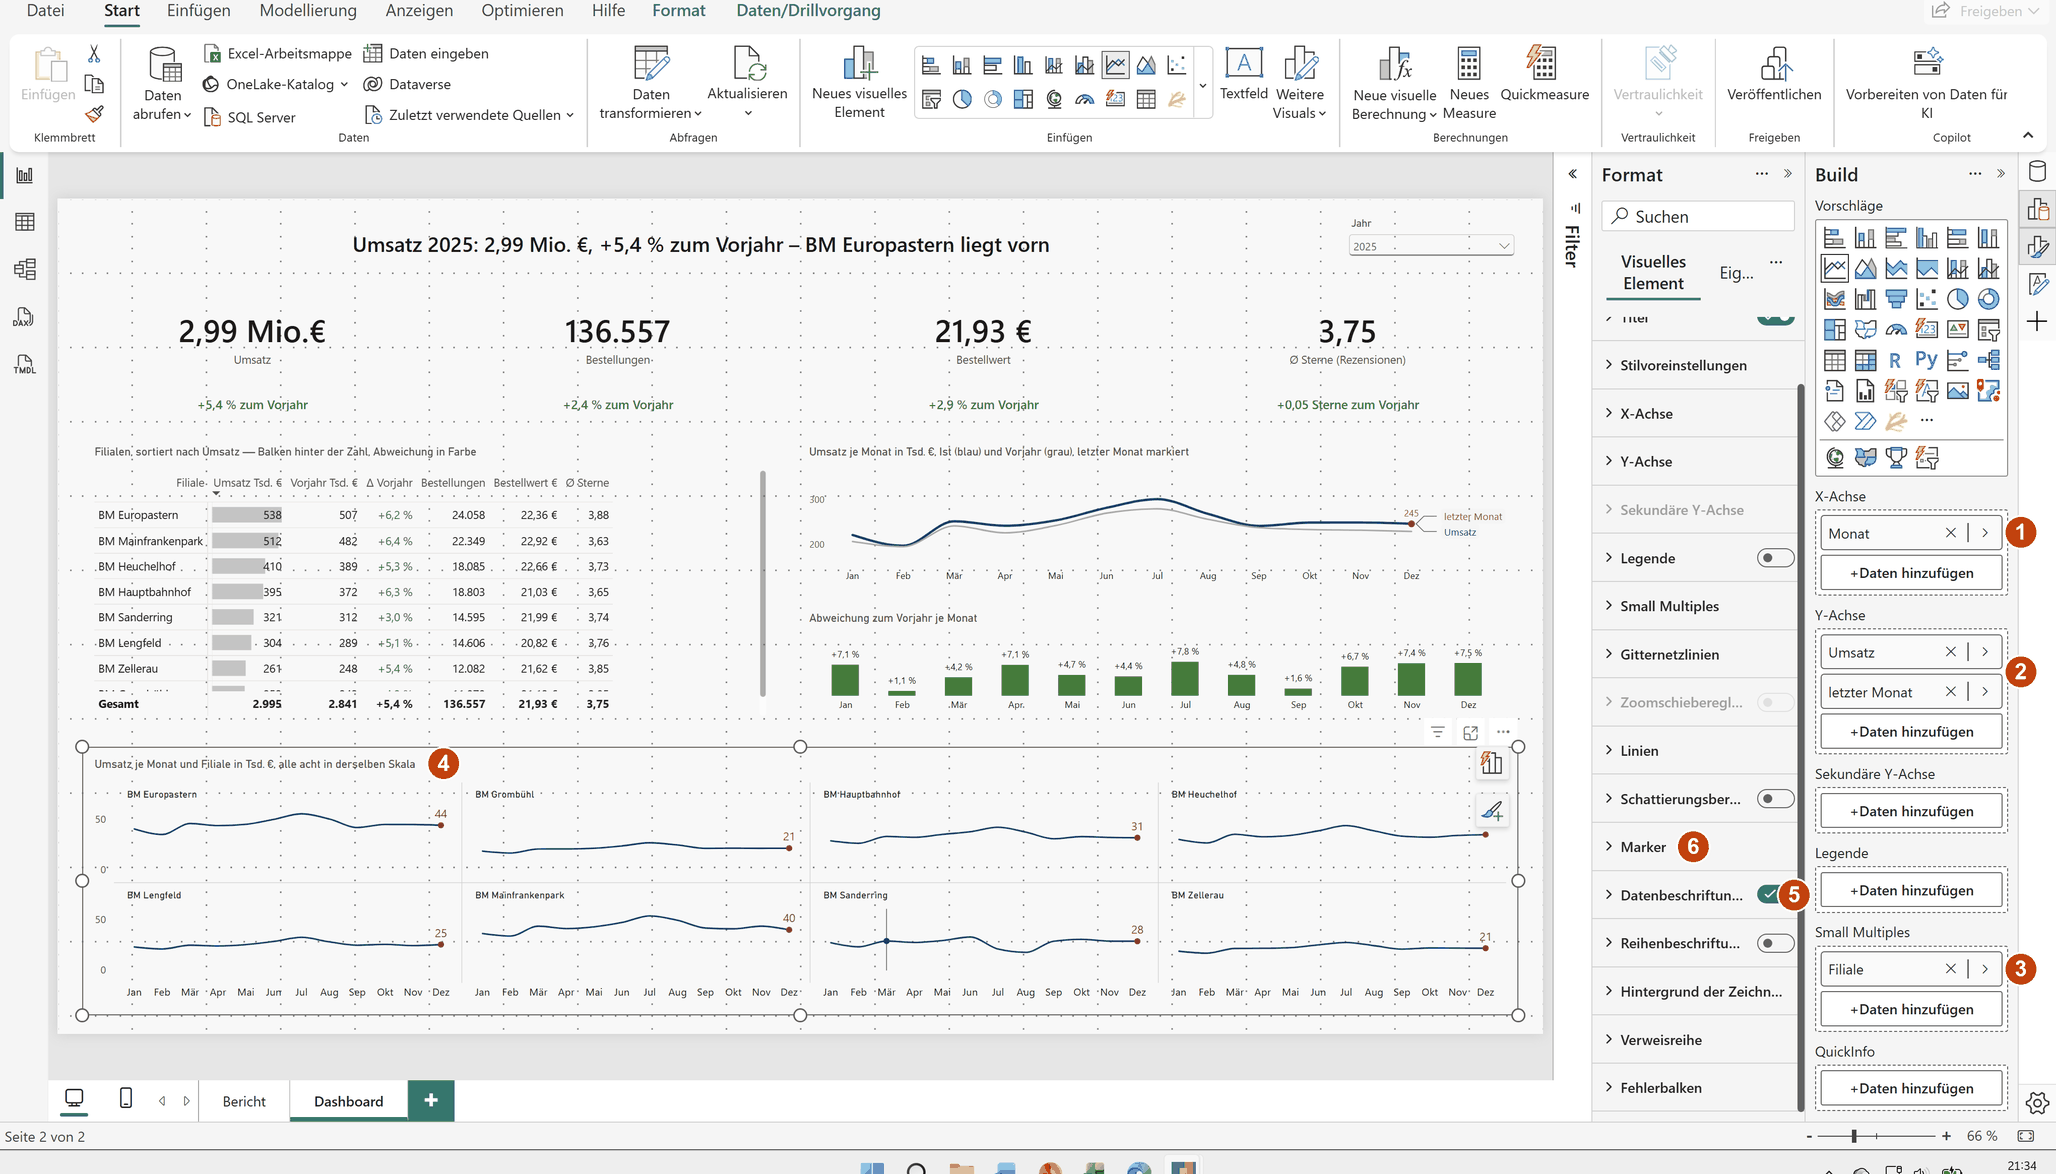

This screenshot's page, from the dashboard's own definition file:
{"tool":"tableau","page":{"name":"Dashboard 1","canvas":[1600,1000],"ordinal":0},"visuals":[{"type":"worksheet","title":"Titel","mark":"Automatic","box":[8,8,792,80]},{"type":"worksheet","title":"Umsatz je Monat","mark":"Automatic","rows":["Calculation_5100132365418516"],"cols":["date"],"box":[800,8,792,246]},{"type":"parameter","param":"[Parameters].[Parameter 5100132363096068]","box":[1432,8,160,52]},{"type":"worksheet","title":"Karte Umsatz","mark":"Automatic","box":[8,88,198,166]},{"type":"worksheet","title":"Karte Bestellungen","mark":"Automatic","box":[206,88,198,166]},{"type":"worksheet","title":"Karte Bestellwert","mark":"Automatic","box":[404,88,198,166]},{"type":"worksheet","title":"Karte Sterne","mark":"Automatic","box":[602,88,198,166]},{"type":"worksheet","title":"Filialen Umsatz","mark":"Automatic","rows":["branch_name"],"cols":["Calculation_5100132365291538"],"box":[8,254,297,246]},{"type":"worksheet","title":"Filialen Kennzahlen","mark":"Automatic","rows":["branch_name"],"box":[305,254,495,246]},{"type":"worksheet","title":"Abweichung je Monat","mark":"Bar","rows":["Calculation_5100132363948041"],"cols":["date"],"box":[800,254,792,246]},{"type":"worksheet","title":"Filialen je Monat","mark":"Automatic","rows":["branch_name","Calculation_5100132365291538","Calculation_5100132365418516"],"cols":["date"],"box":[8,500,1584,492]}]}

Visuals, with their boxes on the page's 1600x1000 design canvas (x1, y1, x2, y2). These are canvas units, not pixel positions in the 2056x1174 screenshot, which may show the page scaled, cropped or inside an application window:
"Titel" worksheet: rect(8, 8, 800, 88)
"Umsatz je Monat" worksheet: rect(800, 8, 1592, 254)
parameter: rect(1432, 8, 1592, 60)
"Karte Umsatz" worksheet: rect(8, 88, 206, 254)
"Karte Bestellungen" worksheet: rect(206, 88, 404, 254)
"Karte Bestellwert" worksheet: rect(404, 88, 602, 254)
"Karte Sterne" worksheet: rect(602, 88, 800, 254)
"Filialen Umsatz" worksheet: rect(8, 254, 305, 500)
"Filialen Kennzahlen" worksheet: rect(305, 254, 800, 500)
"Abweichung je Monat" worksheet (Bar marks): rect(800, 254, 1592, 500)
"Filialen je Monat" worksheet: rect(8, 500, 1592, 992)
